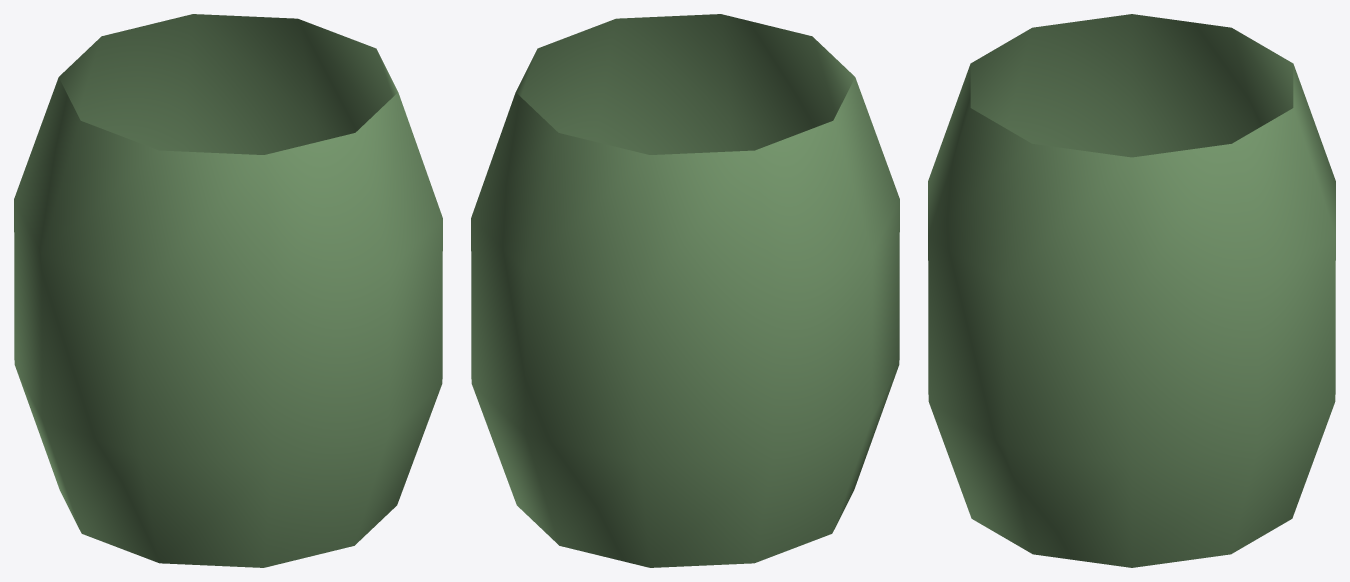
Rendered from Tallo_5.fbx.
3 renders of one model, left to right at view 1: azimuth 30°, elevation 25°; view 2: azimuth 150°, elevation 25°; view 3: azimuth 270°, elevation 25°, orthographic.
Visible parts, largest first — view 1: Tallo_5; view 2: Tallo_5; view 3: Tallo_5.
Part boxes in pixels (x1=…): Tallo_5: x1=14, y1=14, x2=442, y2=567; Tallo_5: x1=471, y1=14, x2=899, y2=567; Tallo_5: x1=928, y1=14, x2=1335, y2=567.
Size of the model in its own units: 0.4922 by 0.5205 by 0.4681.
